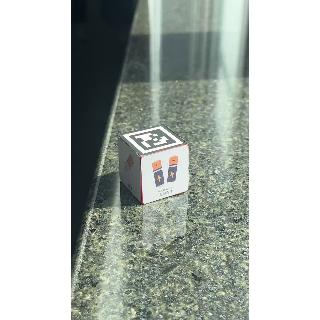Used_Battery: (144, 146, 193, 207)
